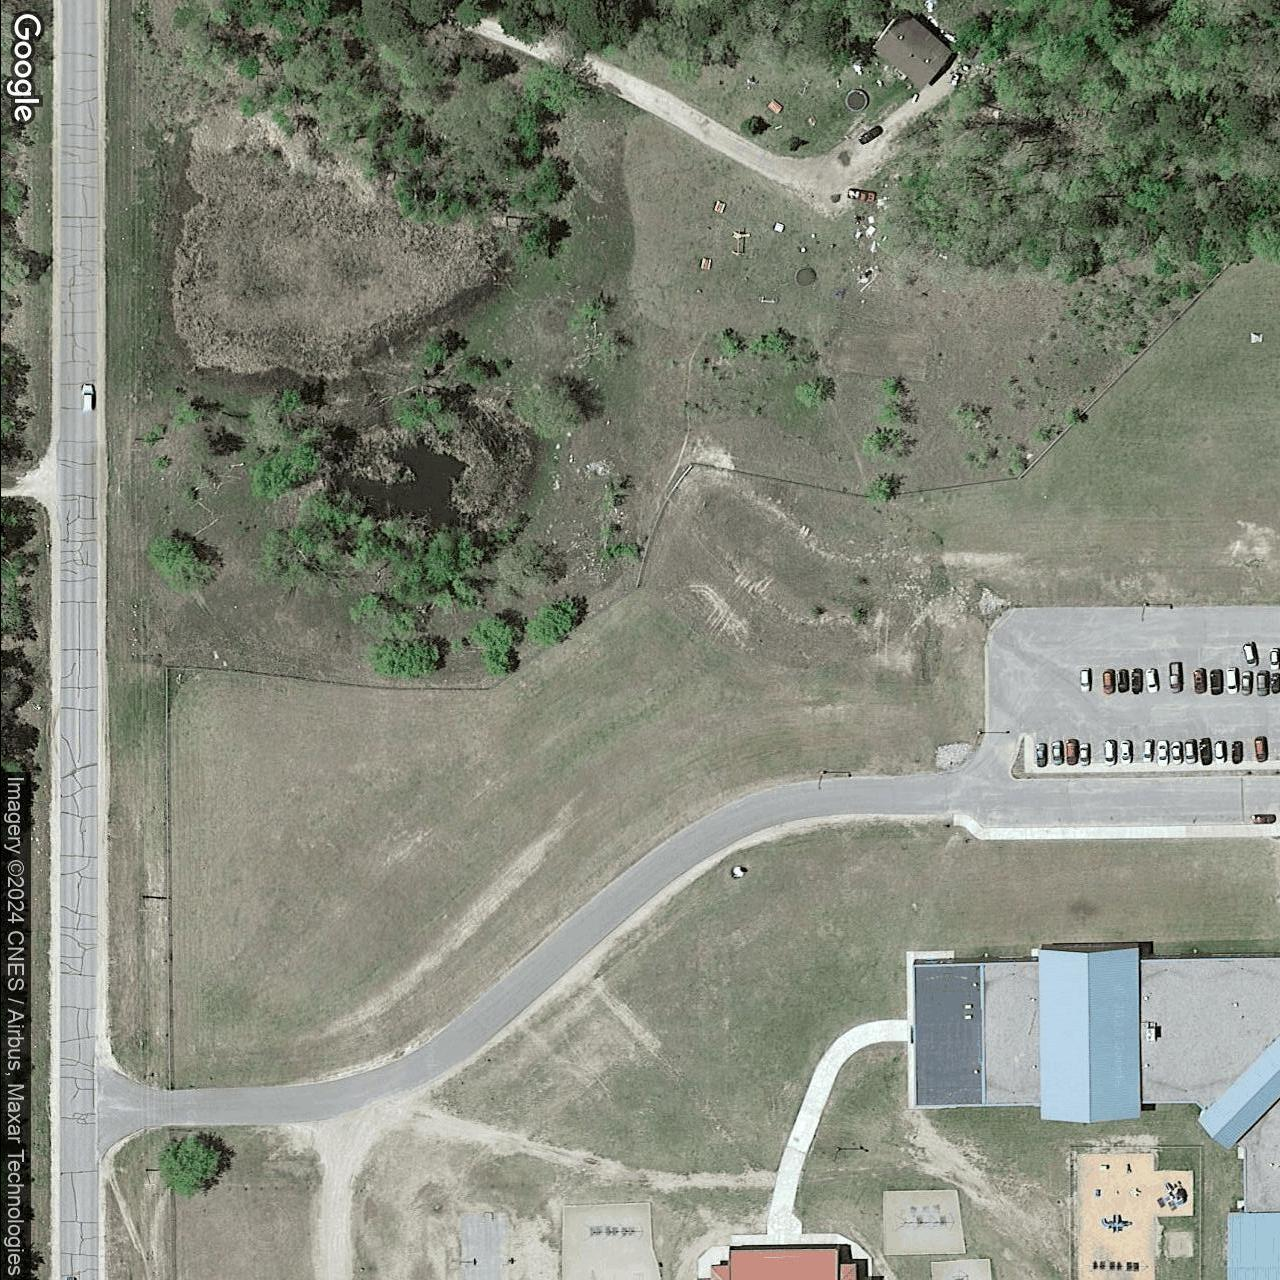House: (871, 7, 953, 91), (708, 1246, 857, 1279)
Other: (910, 944, 1280, 1279)
